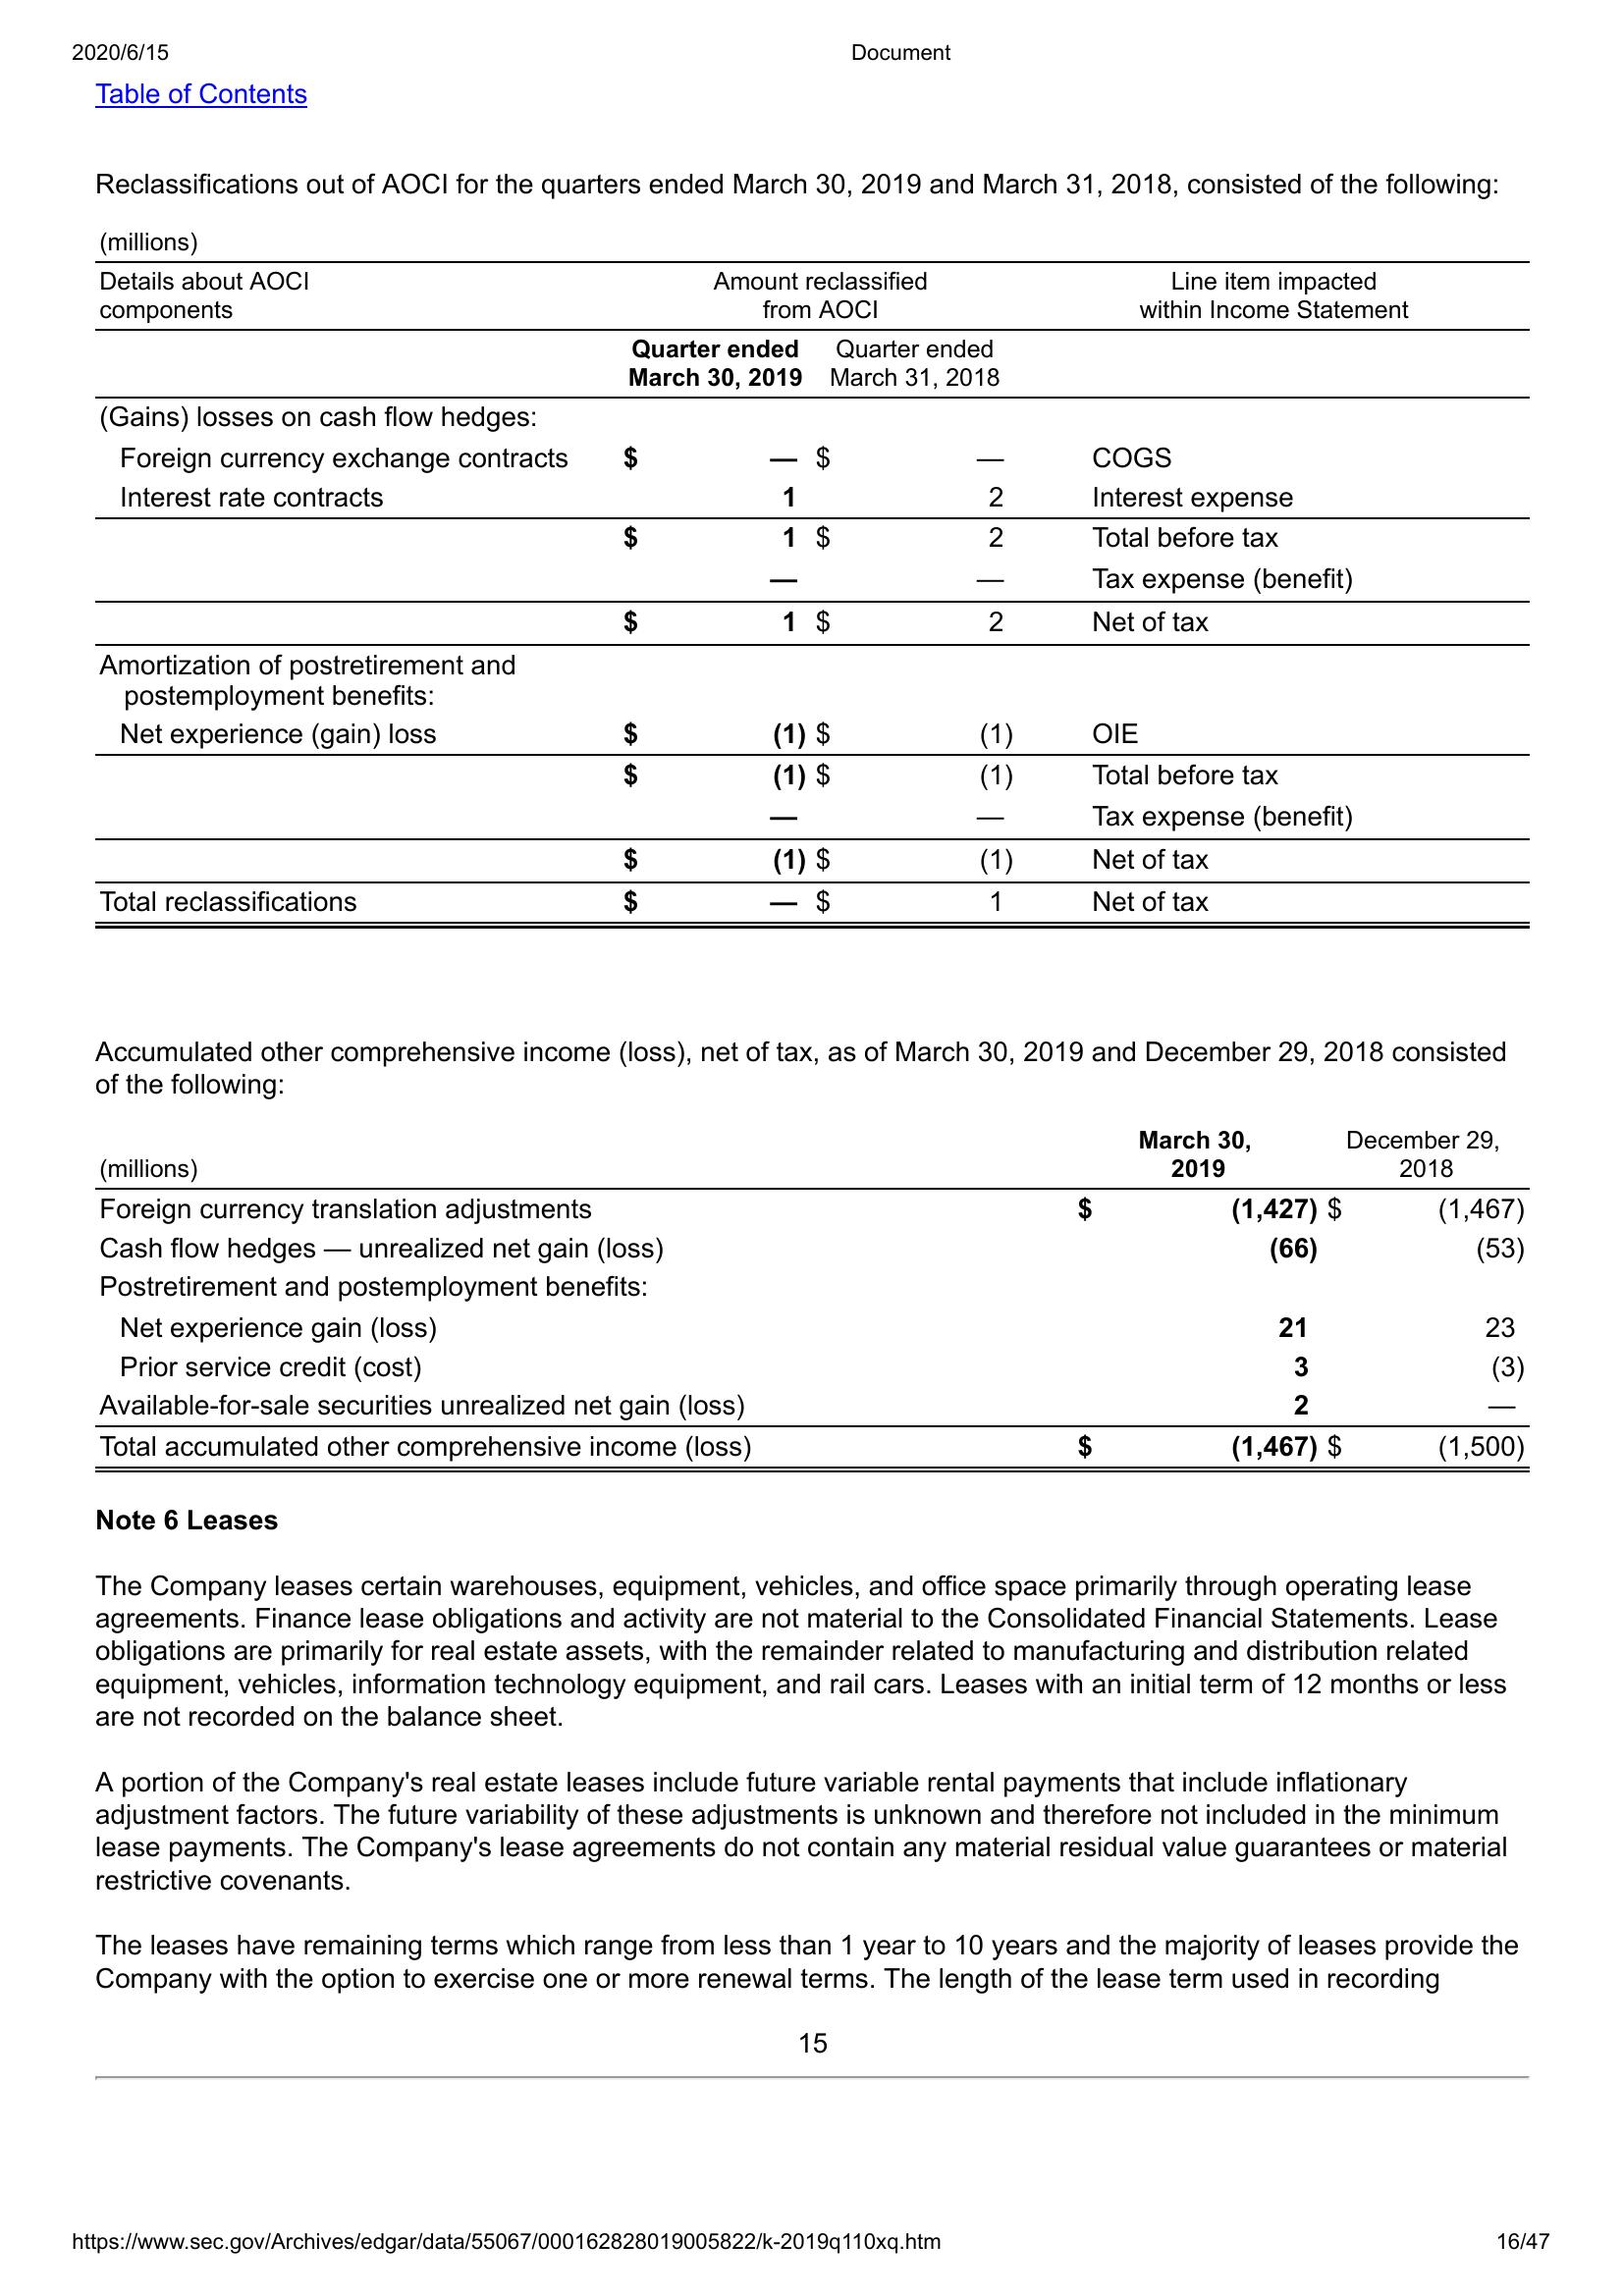table: (88, 228, 1537, 943), (88, 1116, 1537, 1483)
